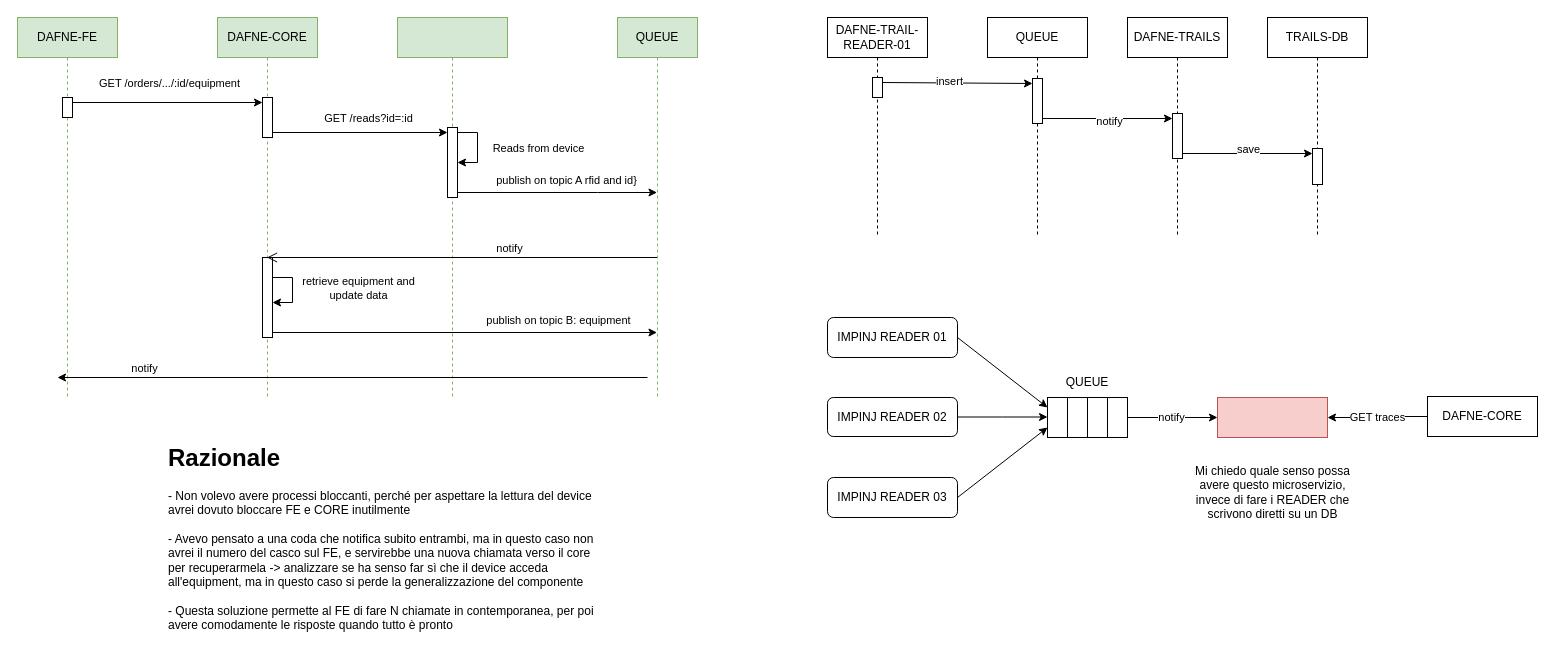
The diagram is 1555 pixels wide and 668 high, and some of its shapes have lost their labels. Each missing label, with the box of its shape:
DAFNE-READER: (396, 16, 508, 398)
DAFNE-TRACES: (1216, 396, 1328, 438)
